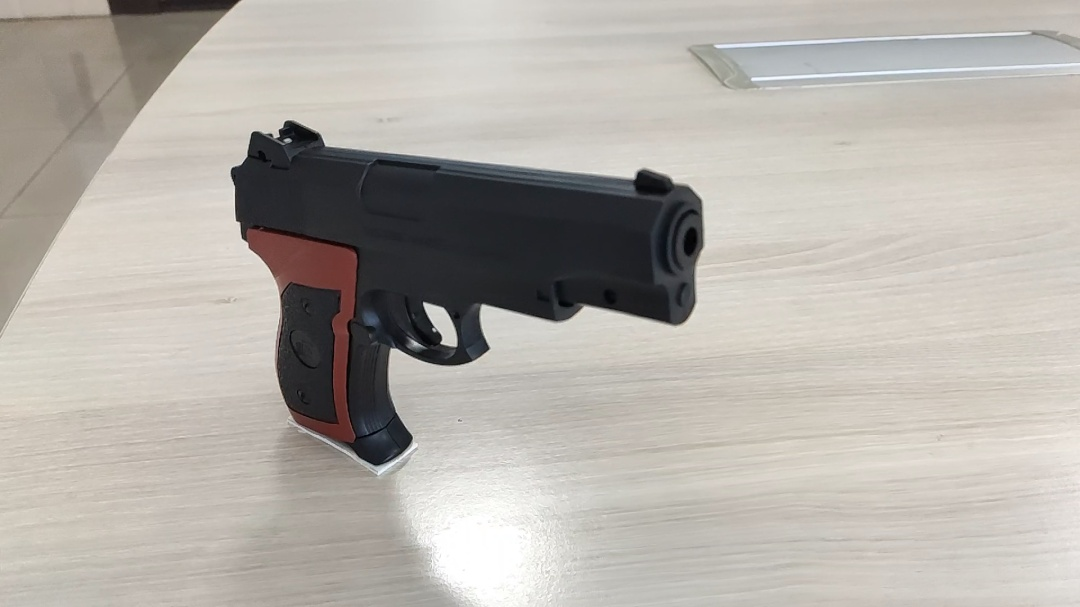gun: (229, 118, 707, 469)
